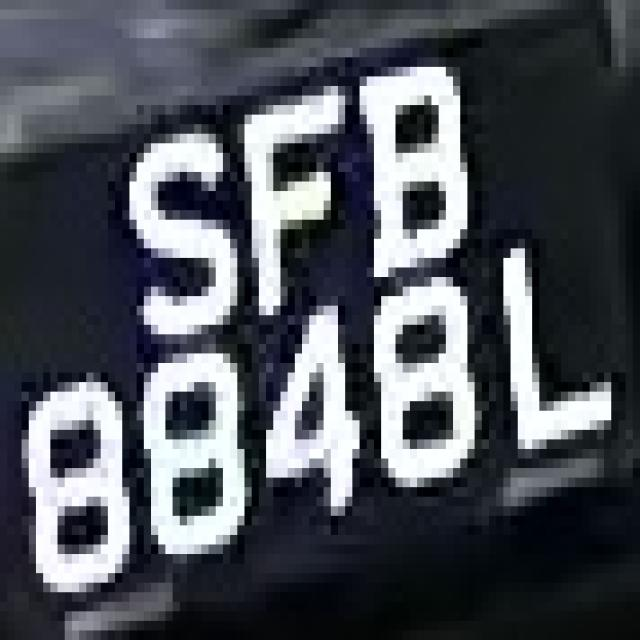4: (237, 286, 374, 544)
8: (15, 353, 130, 621), (130, 325, 252, 573), (366, 248, 474, 497)
B: (338, 57, 482, 306)
F: (209, 57, 345, 344)
L: (482, 210, 611, 497)
S: (94, 96, 230, 363)
